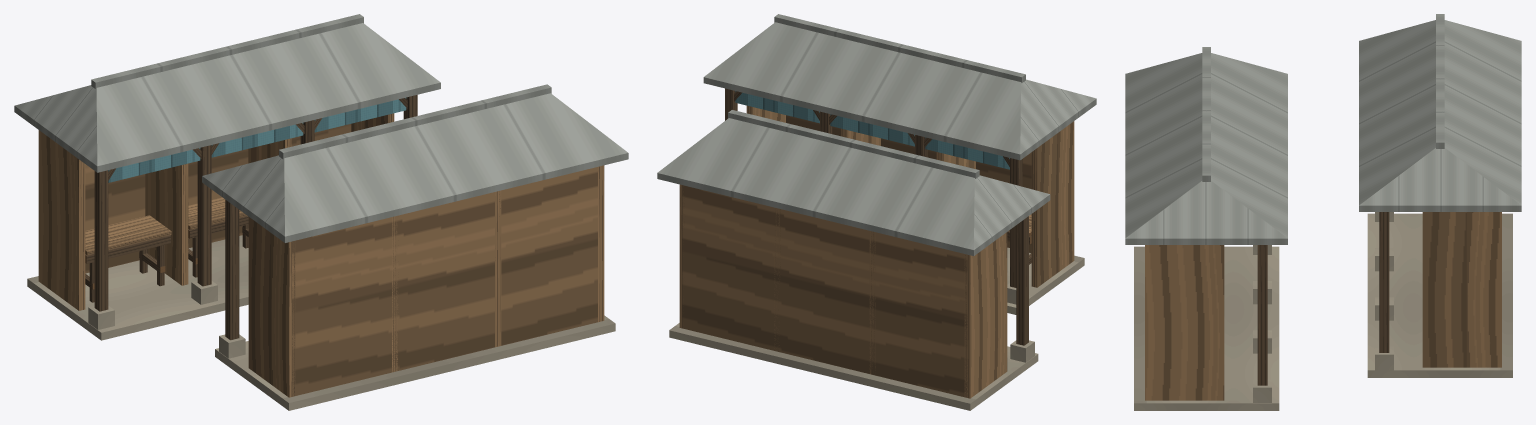
3 views of the same model, side by side, from view 1: azimuth 30°, elevation 25°; view 2: azimuth 150°, elevation 25°; view 3: azimuth 270°, elevation 25° (orthographic). The views are drawn at different scales.
Parts seen in each view (by area): view 1: santo-domingo; view 2: santo-domingo; view 3: santo-domingo.
Boxes of the visible parts, box(x1,y1,x2,y2) form: santo-domingo: box(14, 14, 628, 410); santo-domingo: box(657, 14, 1096, 410); santo-domingo: box(1125, 14, 1521, 410).
Bounding box in the file's own units: 4.78 × 2.5 × 4.06.
Materials: 1 (1 with a texture image).
